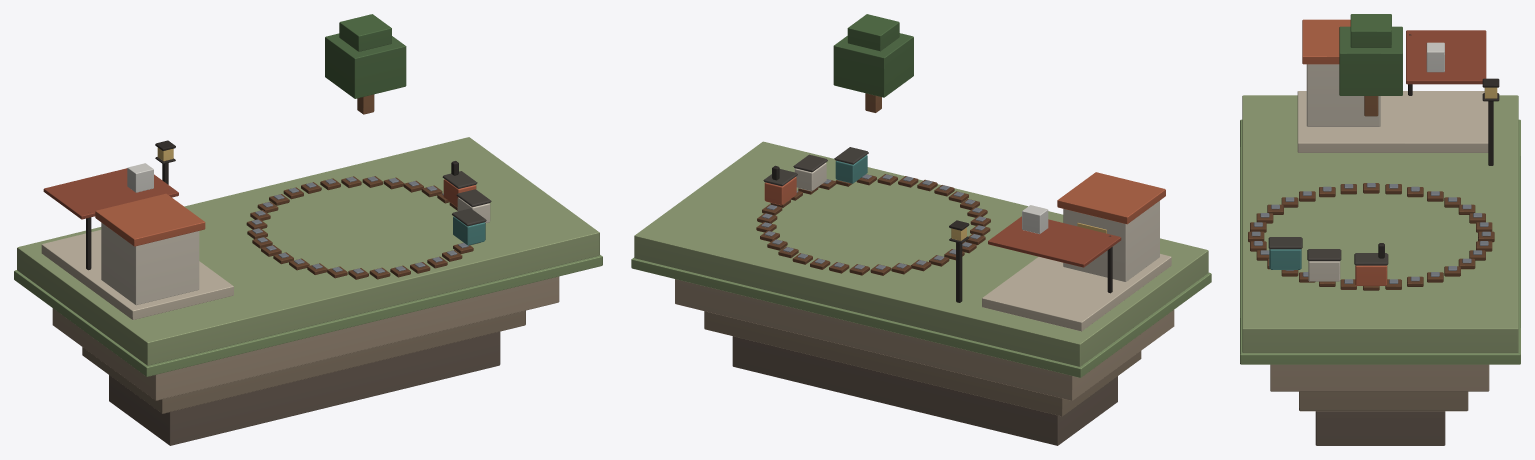
File: region_11.glb
The picture shows the model from 3 angles, left to right: view 1: azimuth 30°, elevation 25°; view 2: azimuth 150°, elevation 25°; view 3: azimuth 270°, elevation 25°; orthographic projection. The views are drawn at different scales.
Parts seen in each view (by area): view 1: region_11_static, region_11_train; view 2: region_11_static, region_11_train; view 3: region_11_static, region_11_train.
Part boxes in pixels (box(x1,y1,x2,y2)): region_11_static: box(14, 14, 602, 445); region_11_train: box(442, 161, 491, 245); region_11_static: box(631, 14, 1211, 445); region_11_train: box(763, 147, 868, 205); region_11_static: box(1240, 14, 1520, 445); region_11_train: box(1268, 237, 1388, 285).
Bounding box in the file's own units: 12.1 × 8.82 × 6.1.
